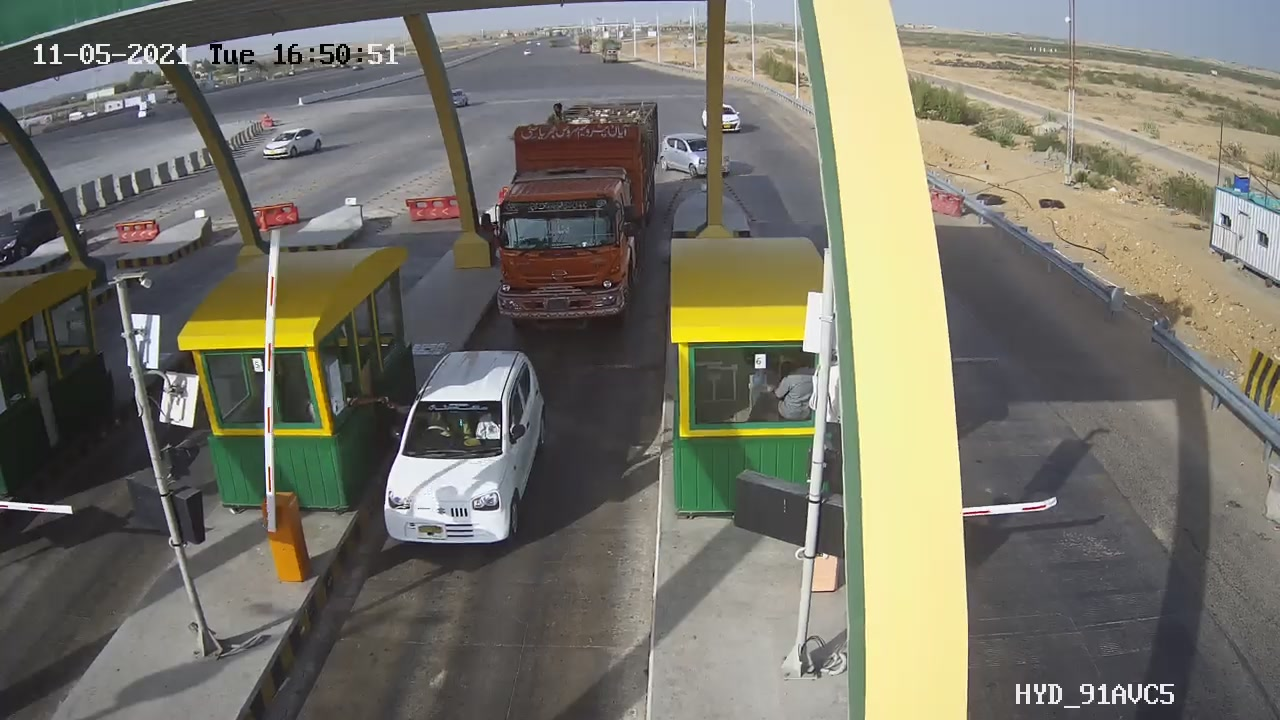F1: (365, 337, 562, 572)
F6: (487, 78, 663, 336)
